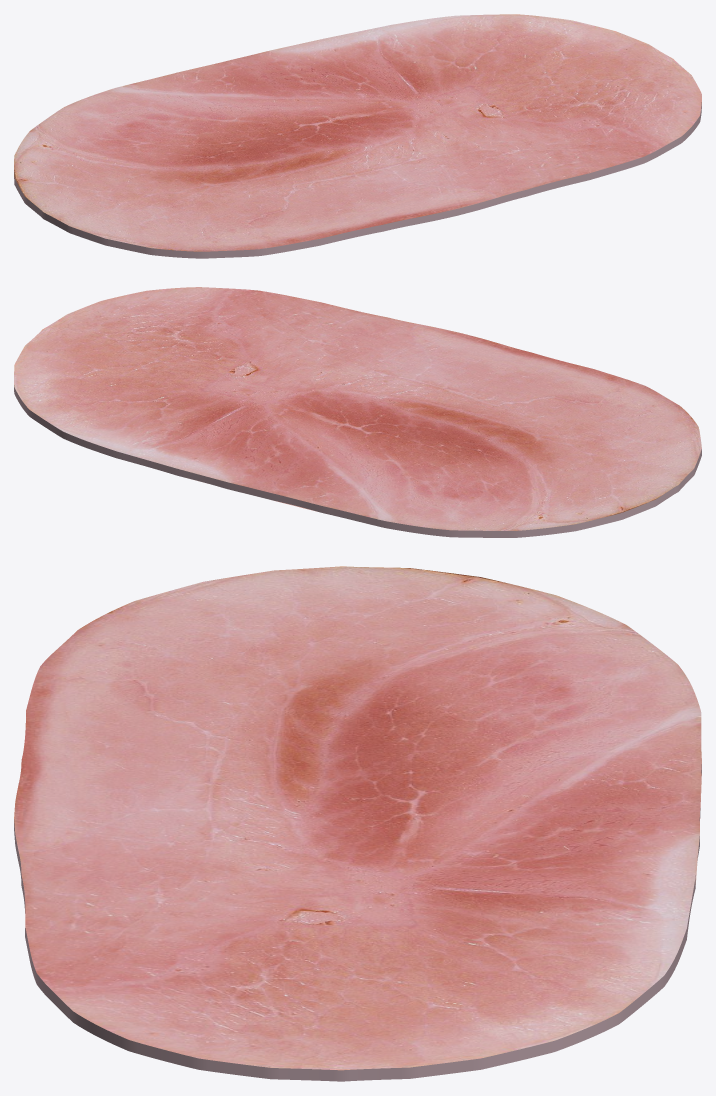
The model's file is prosciutto_non_usare.fbx.
3 views of the same model, one above another, from view 1: azimuth 30°, elevation 25°; view 2: azimuth 150°, elevation 25°; view 3: azimuth 270°, elevation 25° (orthographic). The views are drawn at different scales.
Visible parts, largest first — view 1: Prosciutto; view 2: Prosciutto; view 3: Prosciutto.
Part boxes in pixels (x1,y1,x2,y2): Prosciutto: (14,14,701,258); Prosciutto: (14,287,701,537); Prosciutto: (14,566,701,1081).
Size of the model in its own units: 362 by 3.81 by 209.
